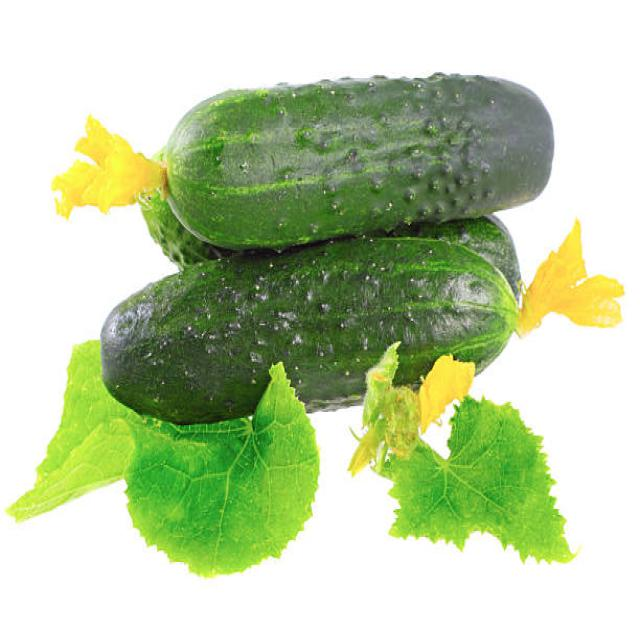cucumber: (102, 232, 514, 426), (163, 70, 555, 250)
